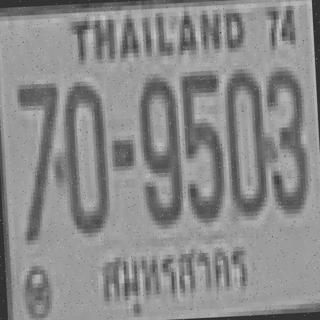N00: (59, 79, 109, 232), (222, 64, 266, 212)
N03: (262, 64, 308, 213)
N05: (179, 66, 224, 219)
N07: (14, 79, 64, 241)
N09: (136, 75, 180, 224)
P58: (89, 228, 258, 314)
